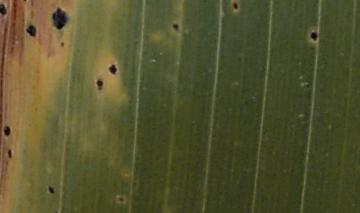tarspot: (52, 8, 68, 31), (25, 23, 37, 37), (108, 64, 118, 76), (2, 125, 11, 138), (308, 31, 318, 41), (1, 4, 8, 16), (232, 2, 240, 12), (97, 80, 103, 91), (47, 186, 55, 194), (117, 195, 125, 203), (7, 148, 12, 160), (173, 22, 179, 31), (59, 42, 65, 47), (305, 83, 310, 89)
